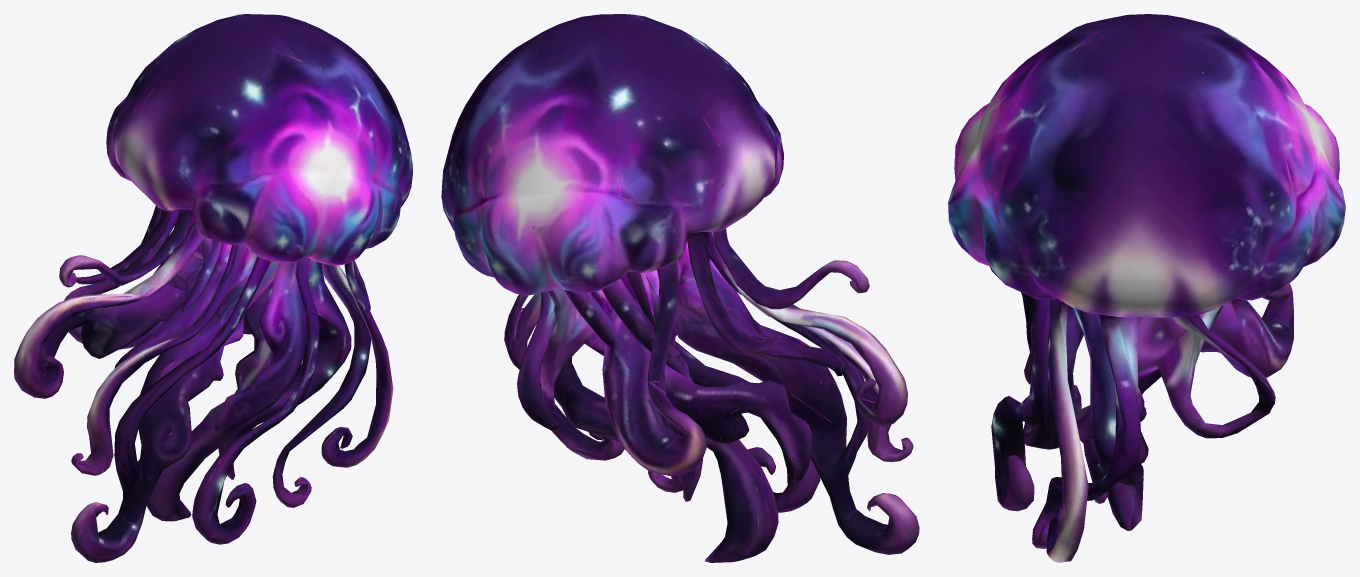
The model's file is brume_meduse.glb.
3 views of the same model, side by side, from view 1: azimuth 30°, elevation 25°; view 2: azimuth 150°, elevation 25°; view 3: azimuth 270°, elevation 25° (orthographic). The views are drawn at different scales.
Visible parts, largest first — view 1: Mesh_0; view 2: Mesh_0; view 3: Mesh_0.
Part boxes in pixels (left/top/right/bottom): Mesh_0: left=14, top=14, right=412, bottom=562; Mesh_0: left=441, top=14, right=919, bottom=562; Mesh_0: left=948, top=14, right=1345, bottom=562.
Size of the model in its own units: 1.65 by 1.9 by 1.25.
1 material, 1 textured.
